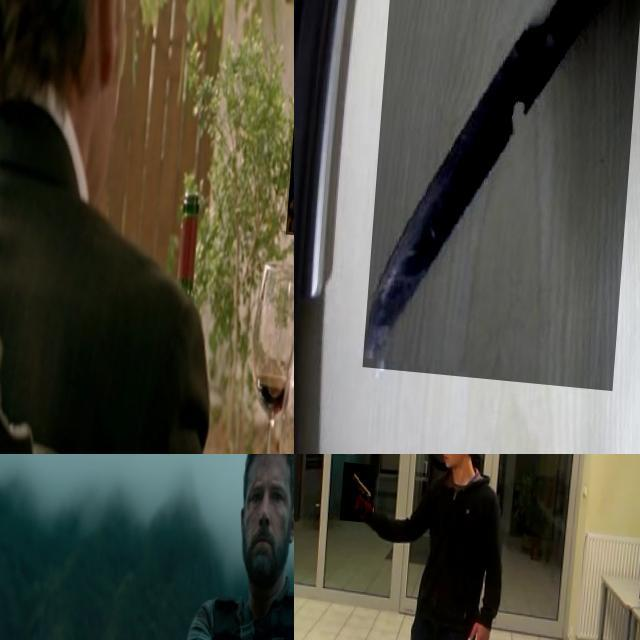-: (370, 0, 640, 382)
gun-knife-thesis - v11 Yolov5 augmented: (346, 456, 381, 517)
